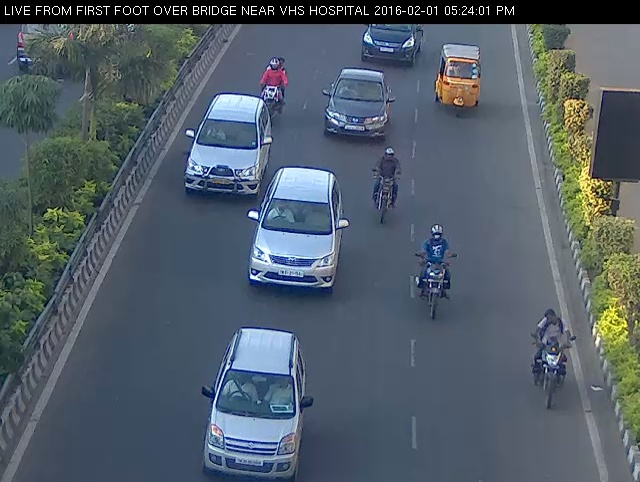Auto: (427, 41, 494, 124)
Car: (189, 315, 321, 482), (242, 159, 352, 302), (175, 87, 275, 210), (313, 62, 405, 151), (350, 15, 430, 68)
Person: (514, 299, 589, 420), (414, 213, 457, 324), (363, 142, 411, 229), (250, 51, 296, 132)
